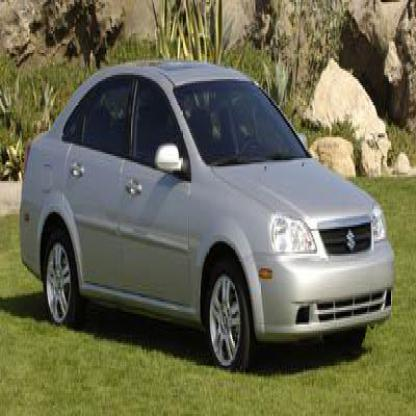Vehicle: (18, 56, 397, 377)
